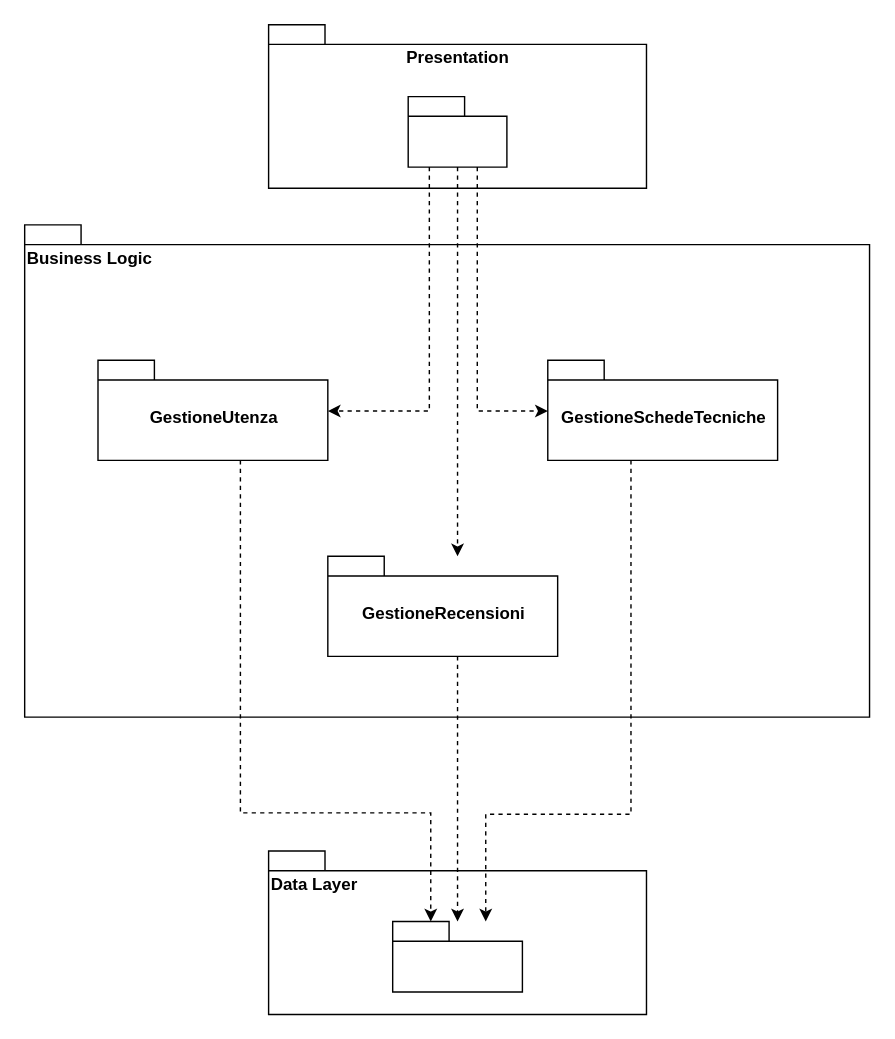
This 895x1039 diagram has some shape labels left out. Each missing label, with the centre of its shape:
Data Access: pixel 456 956
Frontend: pixel 457 131
